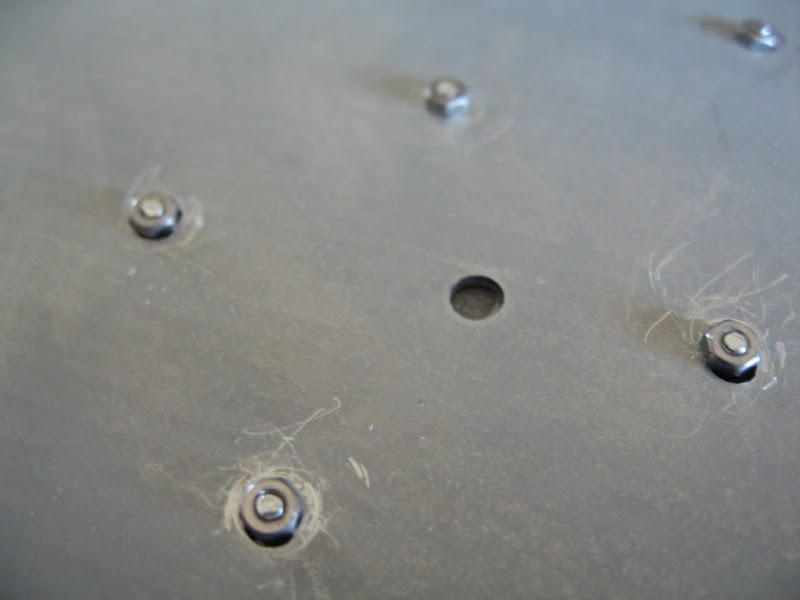bolt: (237, 474, 308, 548), (698, 316, 765, 383), (129, 191, 184, 243), (421, 76, 472, 121), (729, 18, 784, 57)
hole: (447, 272, 508, 325)
